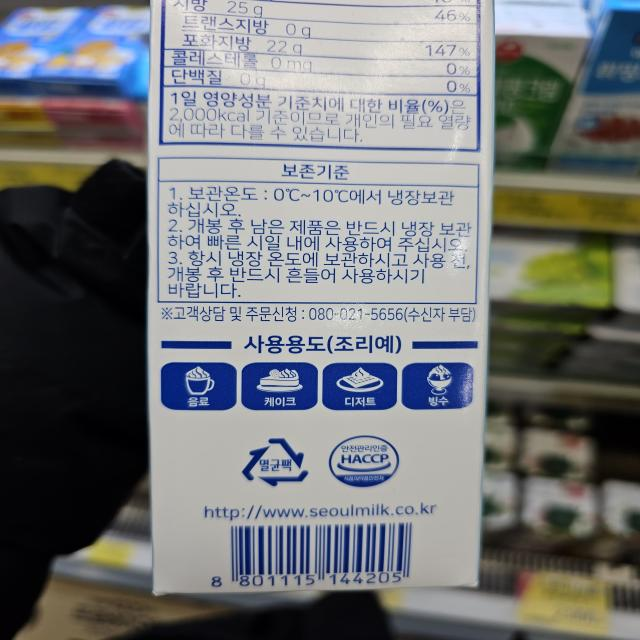SterilizedPack: (237, 434, 313, 489)
